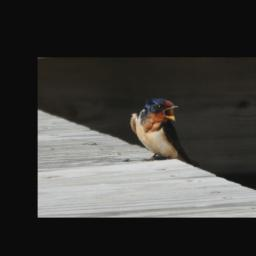Swallow: (129, 96, 188, 161)
